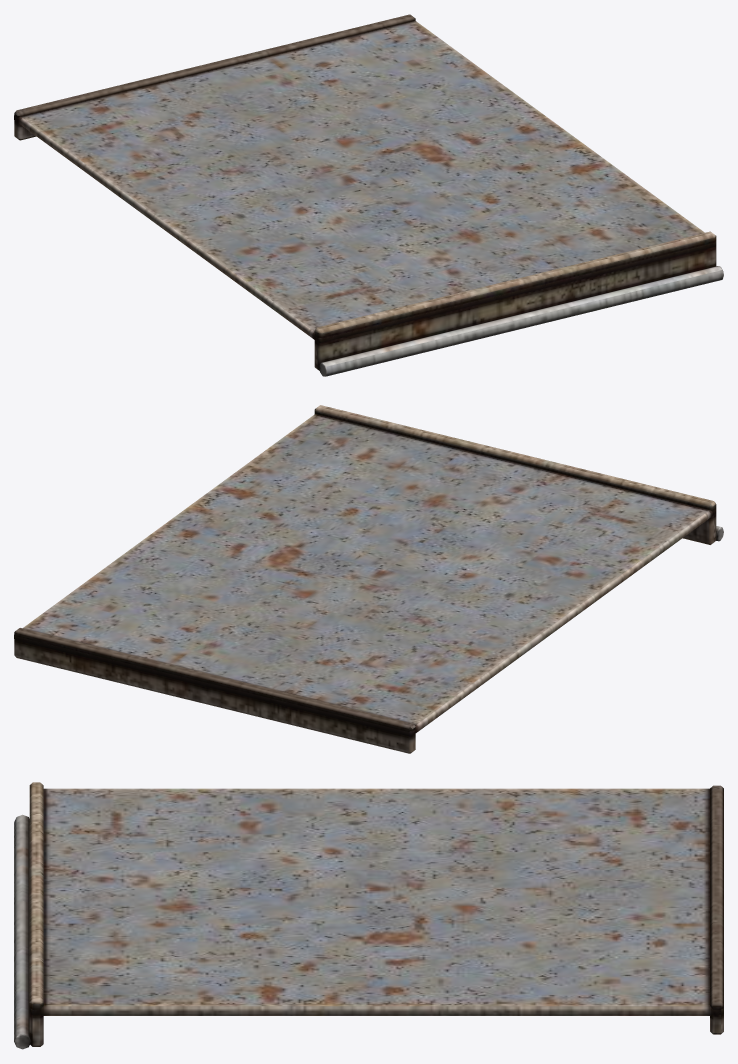
Rendered from marquise_modulo.glb.
3 views of the same model, one above another, from view 1: azimuth 30°, elevation 25°; view 2: azimuth 150°, elevation 25°; view 3: azimuth 270°, elevation 25° (orthographic). The views are drawn at different scales.
Parts seen in each view (by area): view 1: marquise_modulo; view 2: marquise_modulo; view 3: marquise_modulo.
Part boxes in pixels (x1,y1,x2,y2): marquise_modulo: (14, 14, 723, 376); marquise_modulo: (14, 405, 723, 753); marquise_modulo: (14, 782, 723, 1049).
Size of the model in its own units: 3 by 0.31 by 4.09.
Materials: 1 (1 with a texture image).
